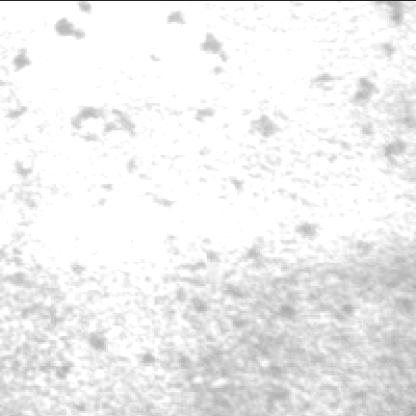pitted_surface: (34, 8, 404, 256), (15, 208, 416, 380)
